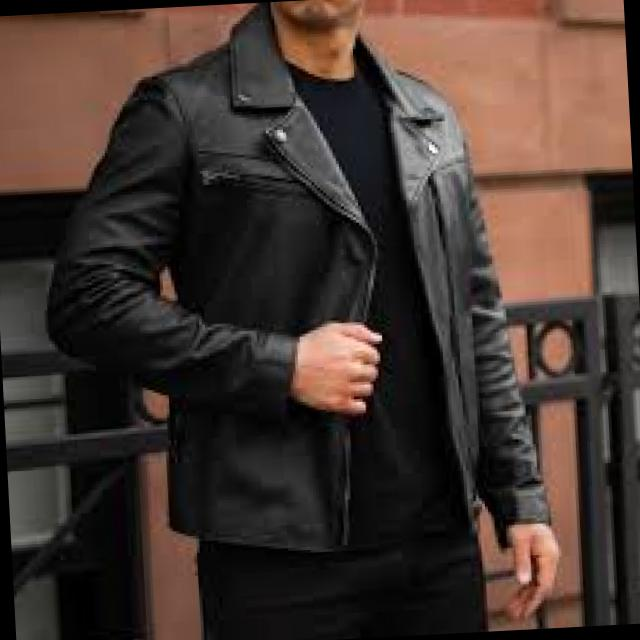Jacket: (40, 15, 552, 553)
